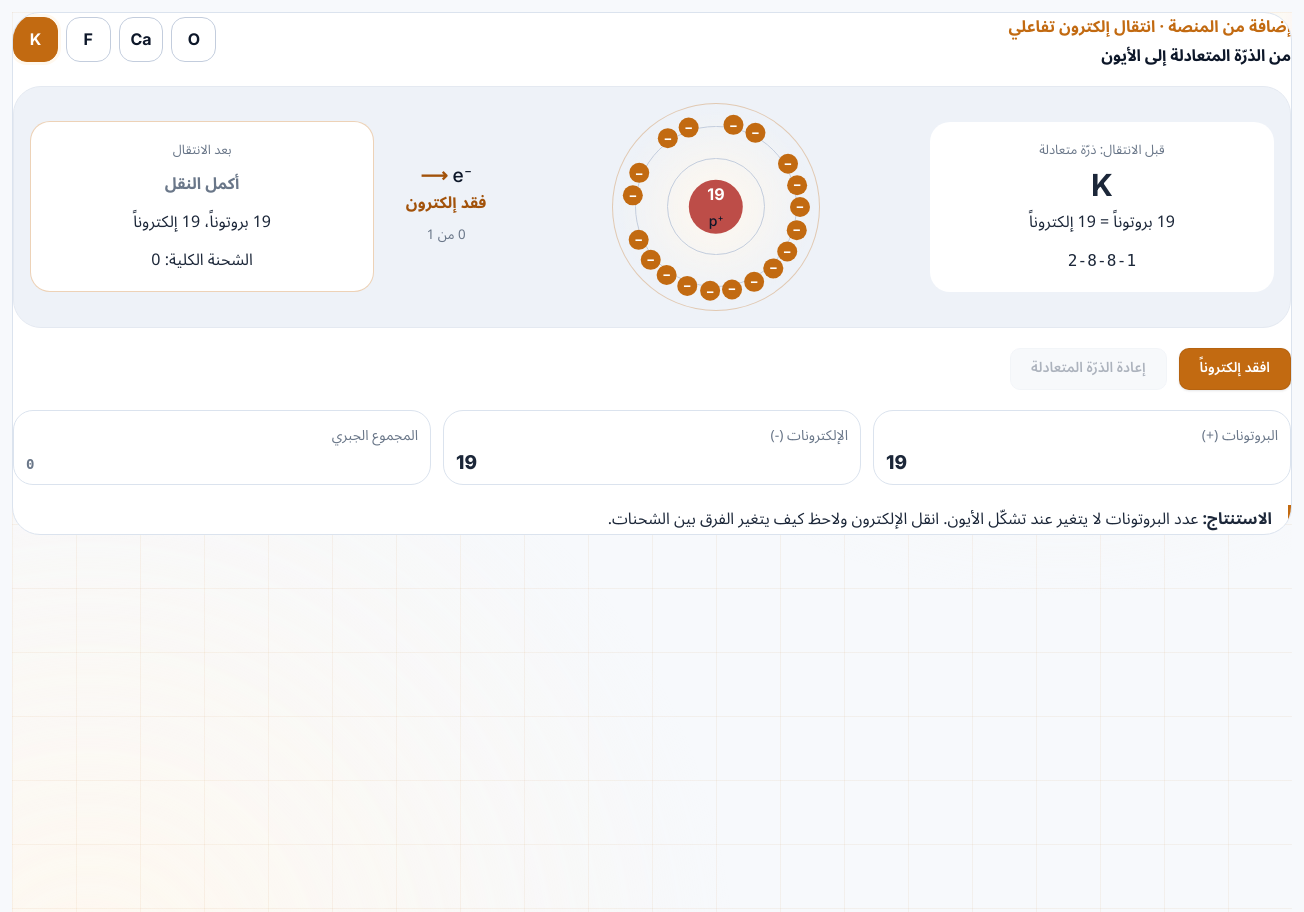
it: interactive electron badges — one inline notation unit › IonFormationLab › renders the shared ChargeNotation wrapper with body and charge inside
The width and height of the screenshot is (1304, 912).
Click the button with class "button--primary" at (1235, 369), box [1178,348,1291,390]
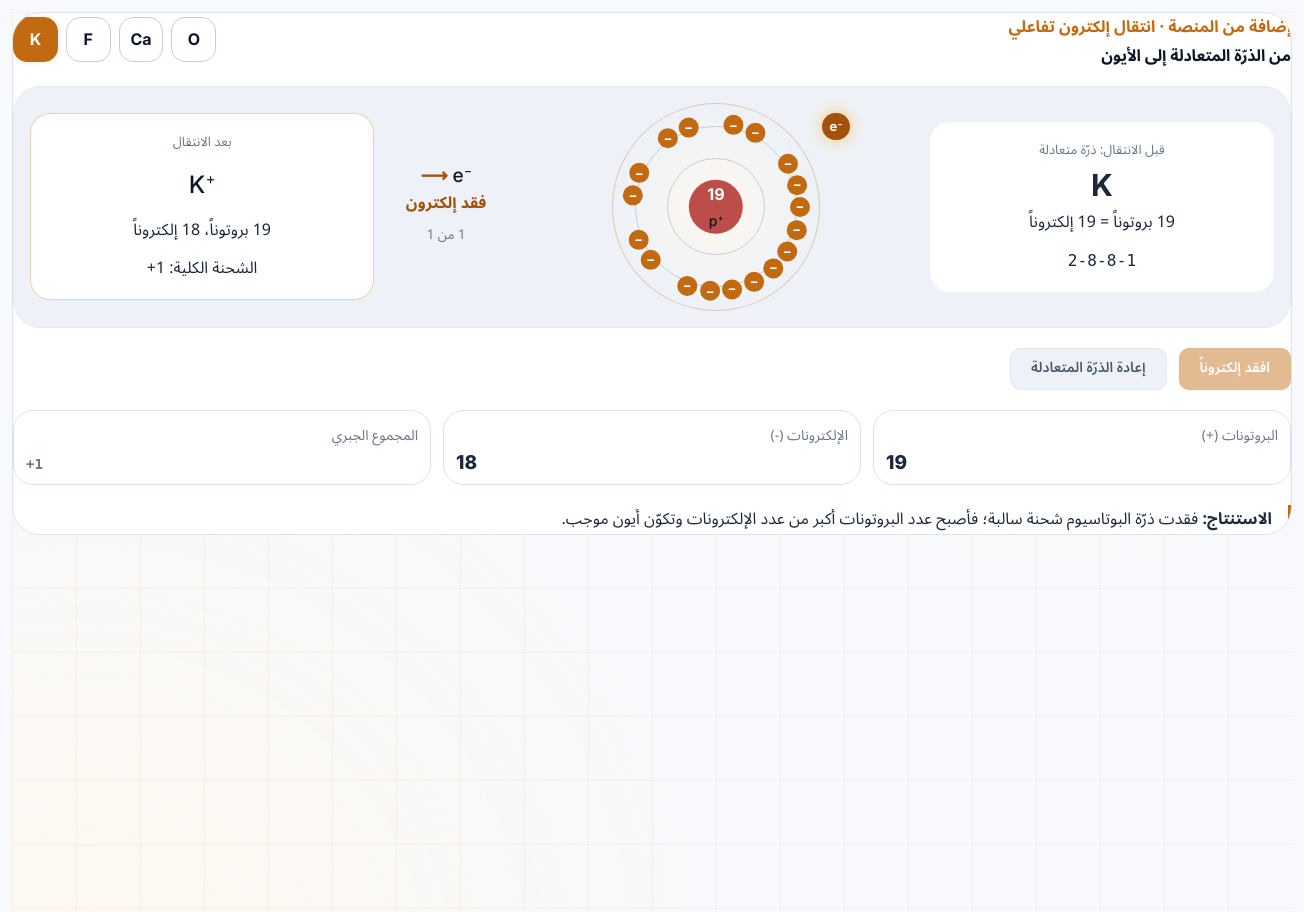
Expected: the 1st element showing "−" is shown, [837,119,843,129]
Result: the 1st text with class "charge-notation__body" reads "e" at [829,118,837,134]
